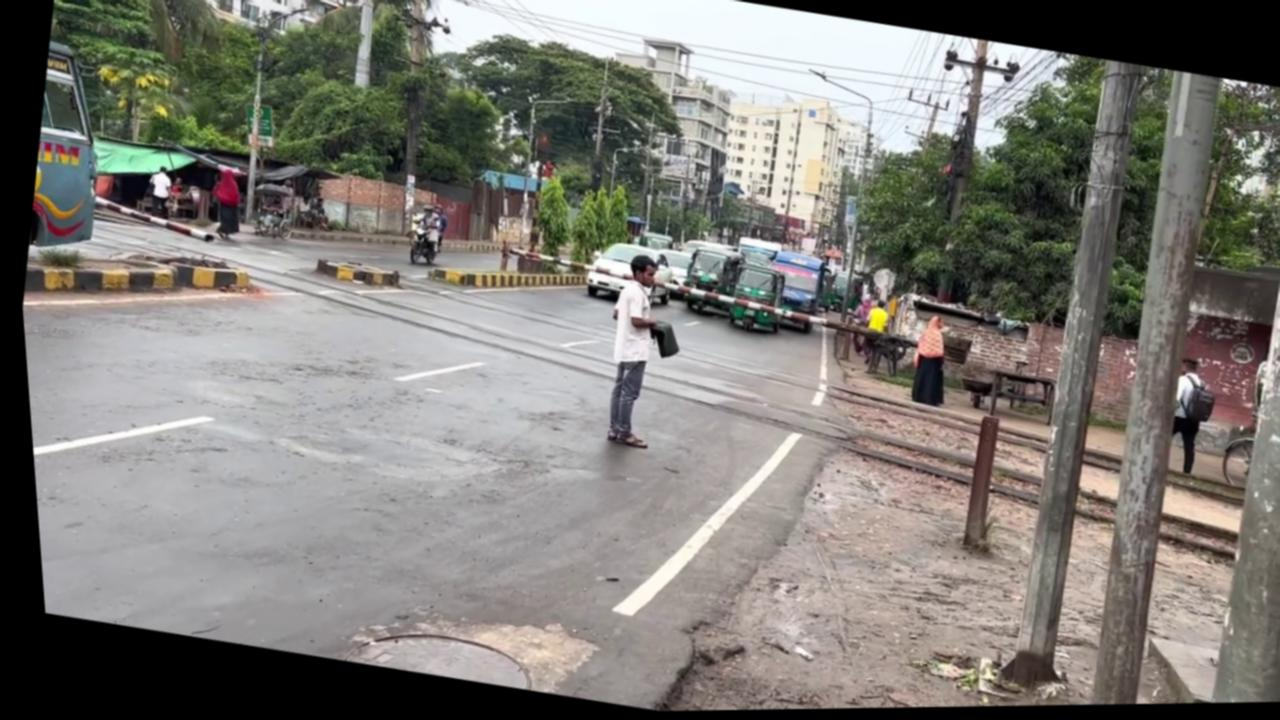Car: (16, 228, 250, 328), (418, 245, 585, 311)
Curb: (396, 215, 441, 270)
Fence: (581, 251, 673, 451), (1151, 358, 1208, 478), (897, 314, 952, 410), (849, 298, 888, 367), (139, 164, 174, 219)
Garbage: (950, 55, 1178, 700), (1026, 70, 1256, 708), (1138, 88, 1280, 707), (898, 36, 1035, 314), (764, 68, 890, 326), (85, 193, 218, 245)
Motorcycle: (57, 197, 1259, 580)
Pothole: (236, 101, 277, 147)
Railroad-crossing: (31, 0, 248, 155), (558, 177, 633, 273), (519, 172, 577, 261)
Rickshaw: (12, 38, 123, 257), (876, 289, 1029, 379)
